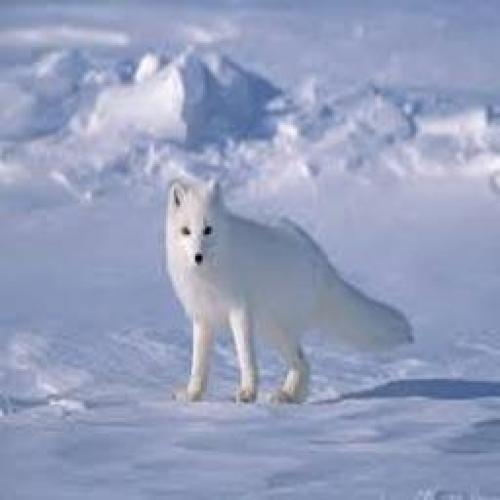arctic_fox-endangered: (165, 182, 410, 399)
